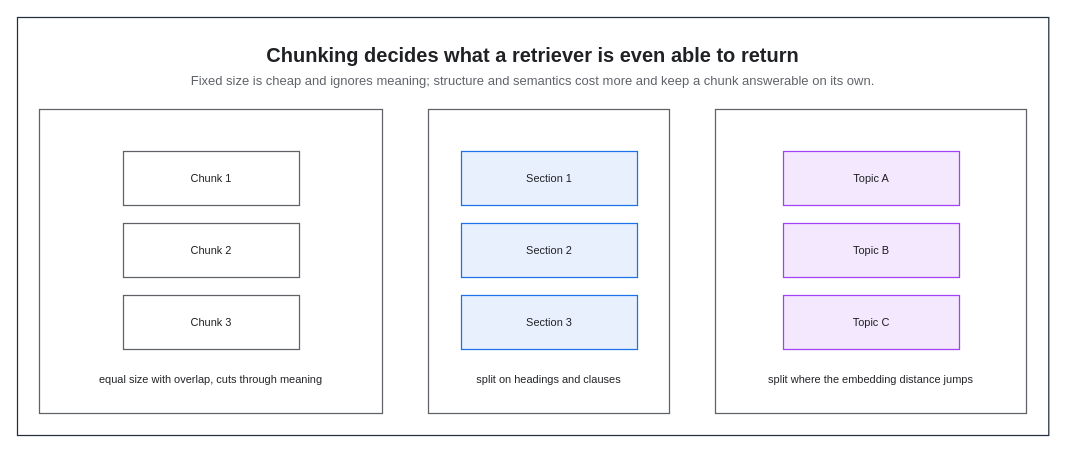
The diagram is 1067 pixels wide and 454 high, and some of its shapes have lost their labels. The shapes that lost their labels are listed below. From the top down, each one's box as (x1, y1, x2, y2) in pixels, then its label:
(38, 108, 383, 414): Fixed size
(427, 108, 670, 414): Structure aware
(714, 108, 1027, 414): Semantic
